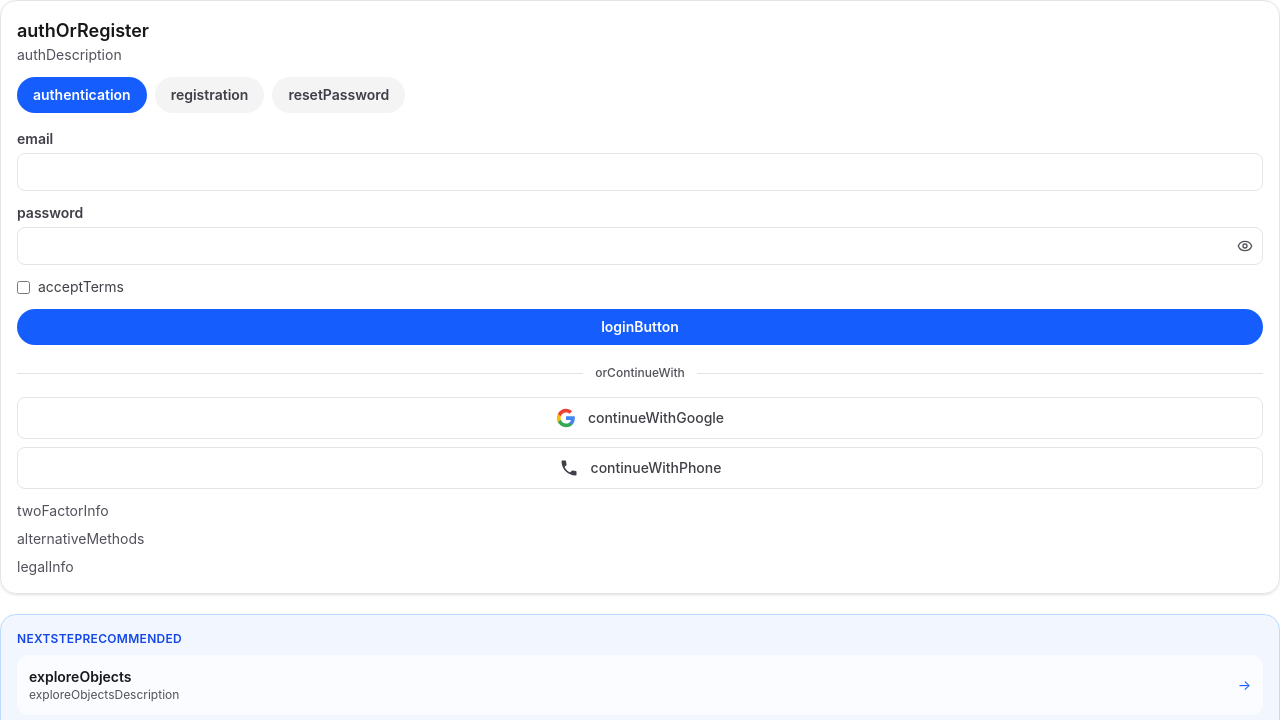
it: LoginPage Component › shows error when terms not accepted
Type "test@test.com" into the field labelled "email". click: x=640, y=172
box: [17,153,1263,191]
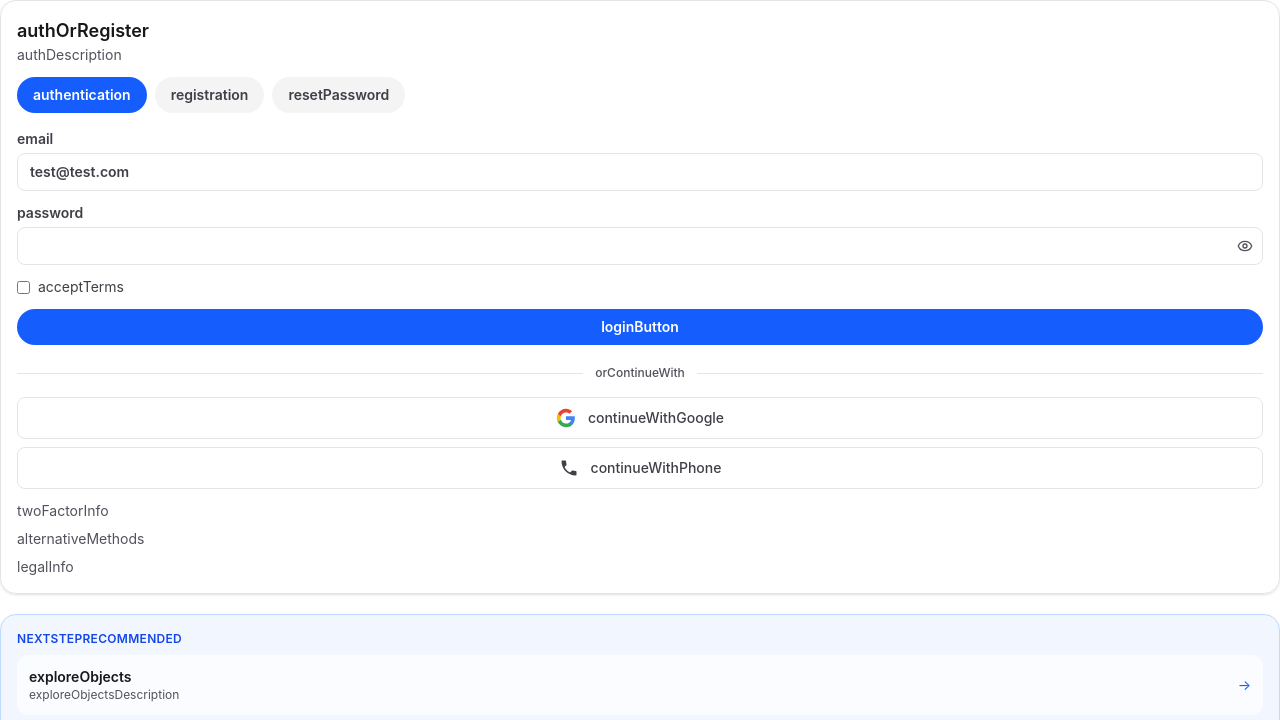
Type "password123" into the password field labelled "password". click: x=640, y=246
box: [17,227,1263,265]
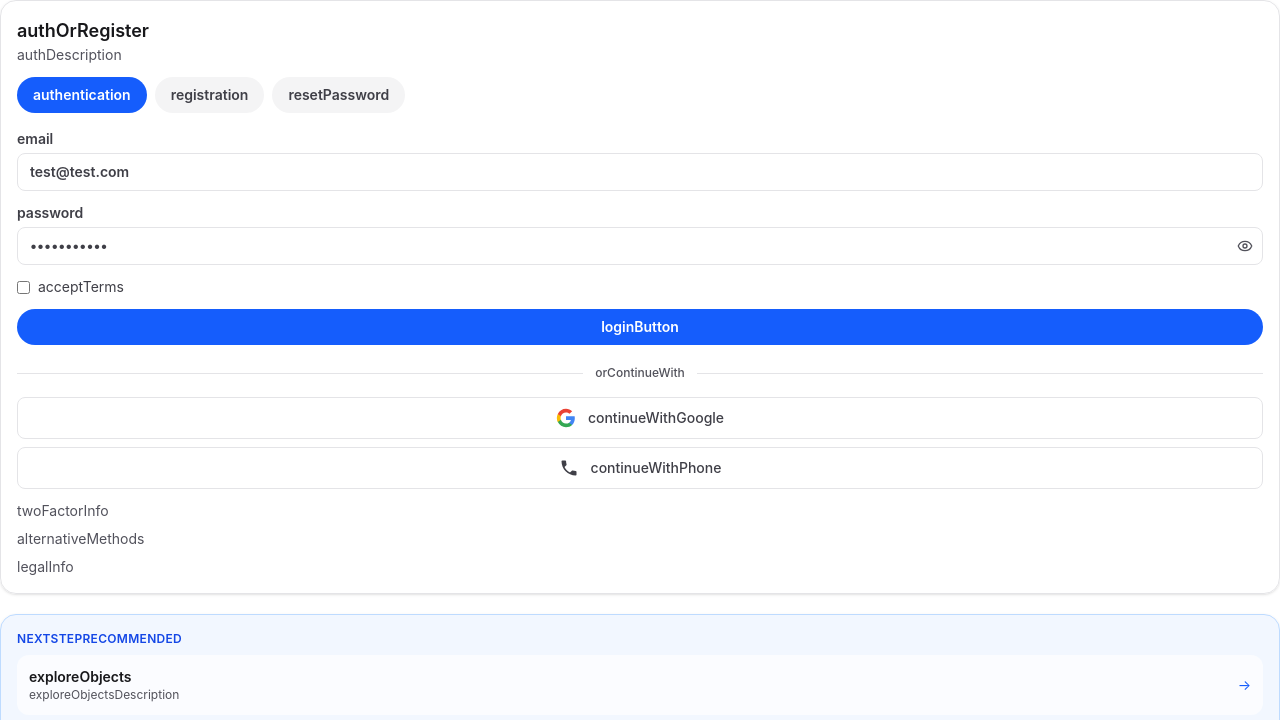
Click the button "loginButton". click: x=640, y=327
box: [17,309,1263,345]
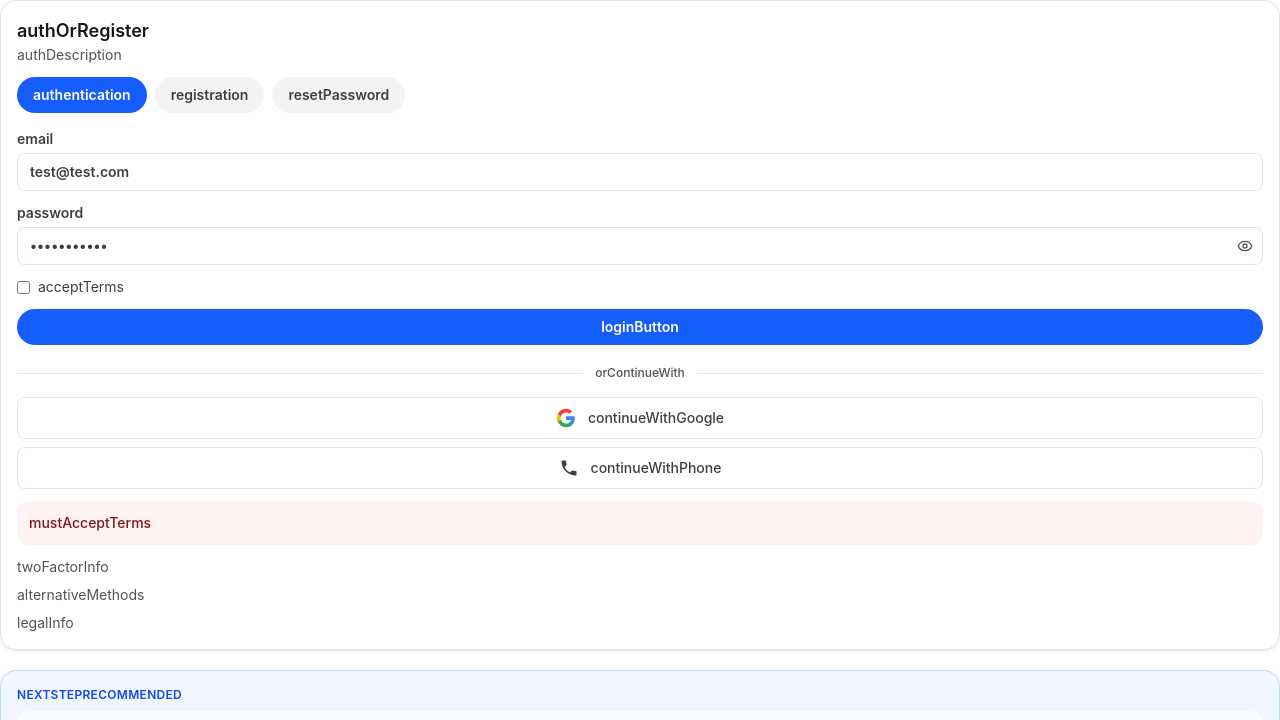
Expected: the text "mustAcceptTerms" is shown, [17,501,1263,545]
